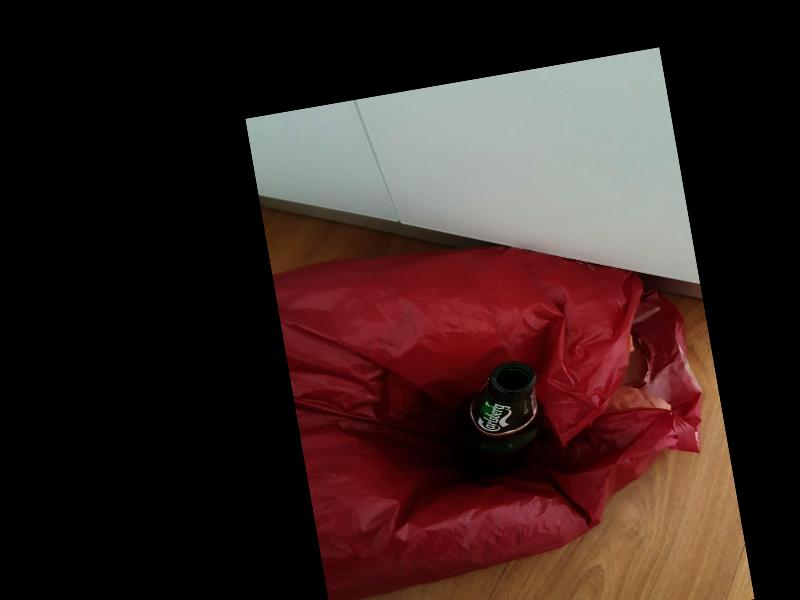Beer: (445, 359, 552, 482)
